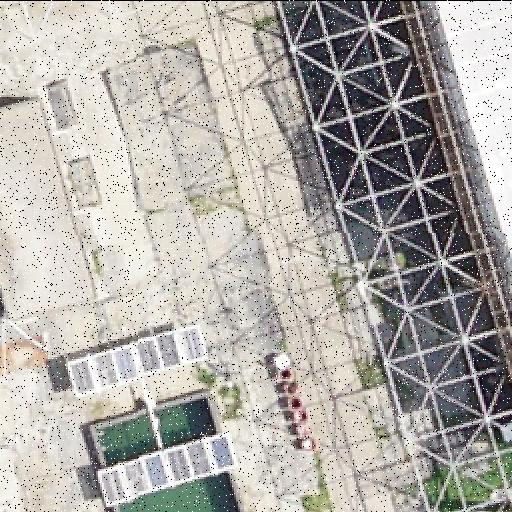solar-panel: (433, 0, 511, 252), (69, 322, 211, 398), (98, 430, 238, 506)
